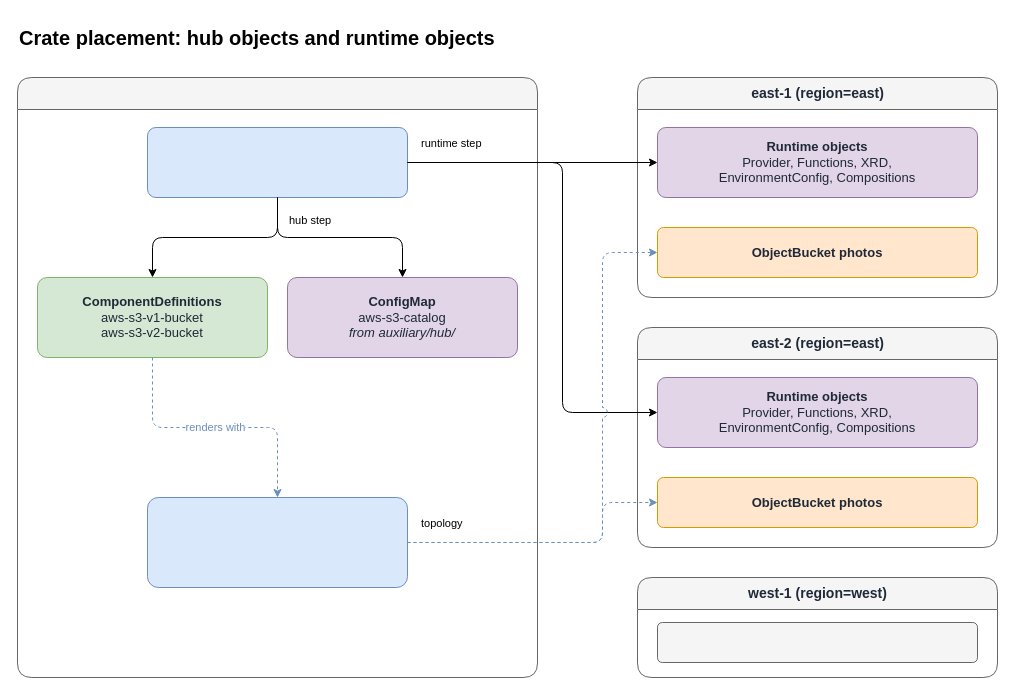
The diagram is 1035 pixels wide and 695 high, and some of its shapes have lost their labels. Each missing label, with the box of its shape:
Application photos type: aws-s3/v1/bucket topology: region=east: (146, 496, 408, 588)
Hub cluster (local): (16, 76, 538, 678)
No crate objects: (656, 622, 978, 662)
Owned Application crate-aws-s3: (146, 126, 408, 198)
